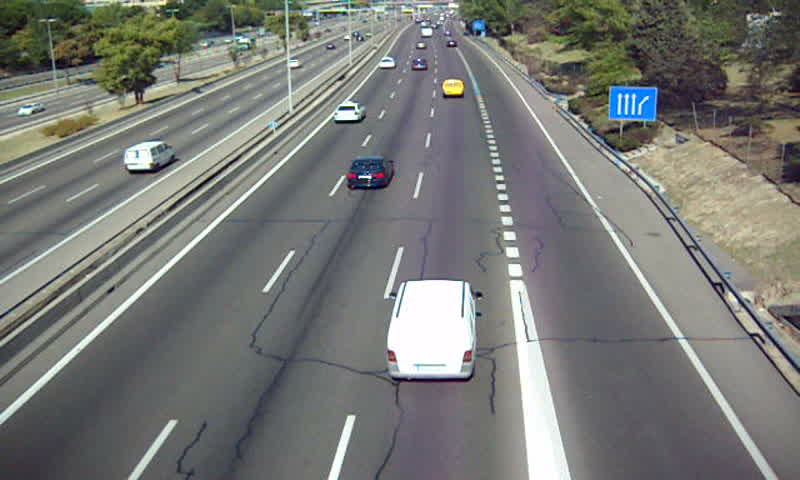car: (346, 157, 392, 188), (332, 103, 366, 122), (377, 56, 394, 70), (410, 57, 428, 70)
van: (387, 280, 474, 380), (442, 79, 463, 98)
